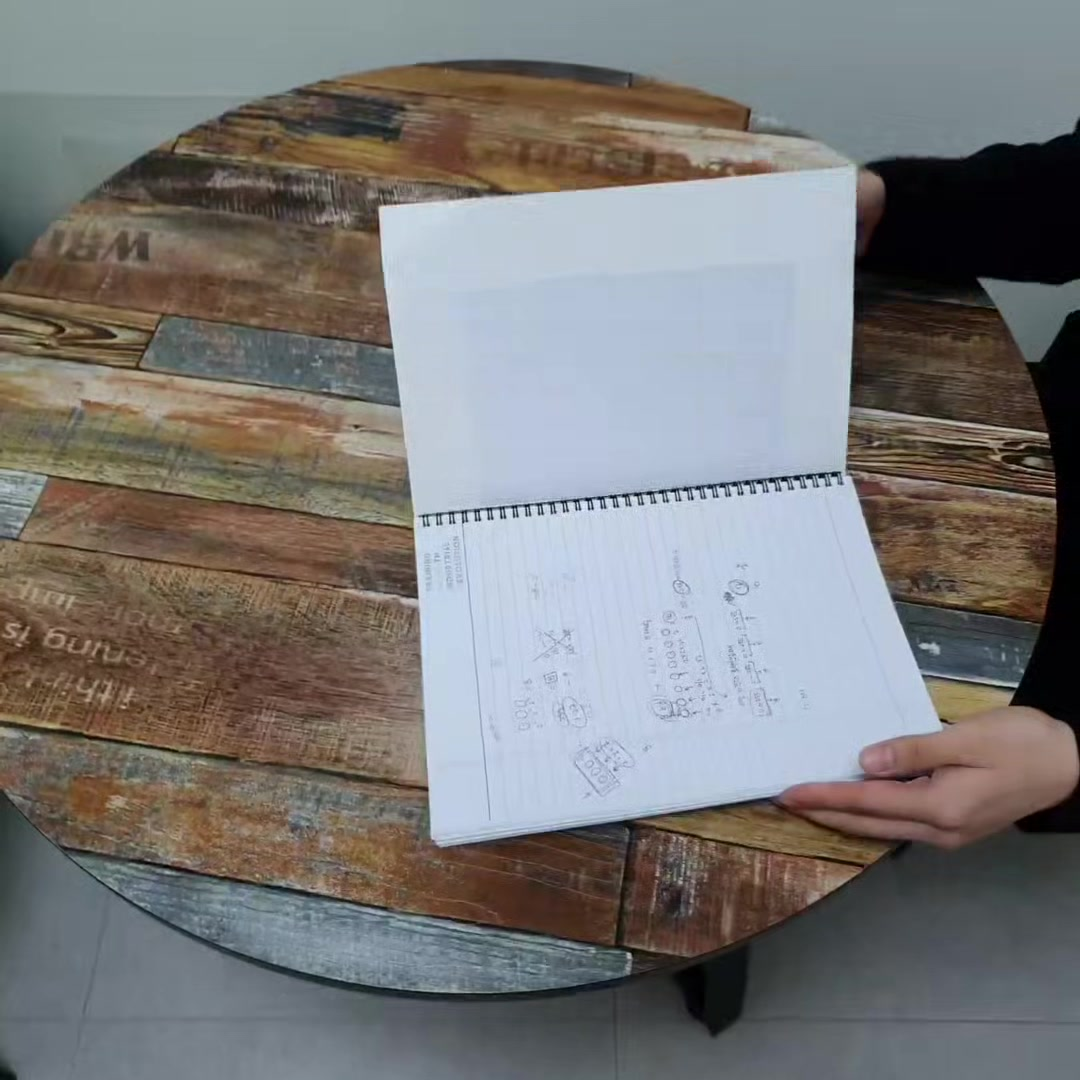book: (375, 164, 948, 849)
